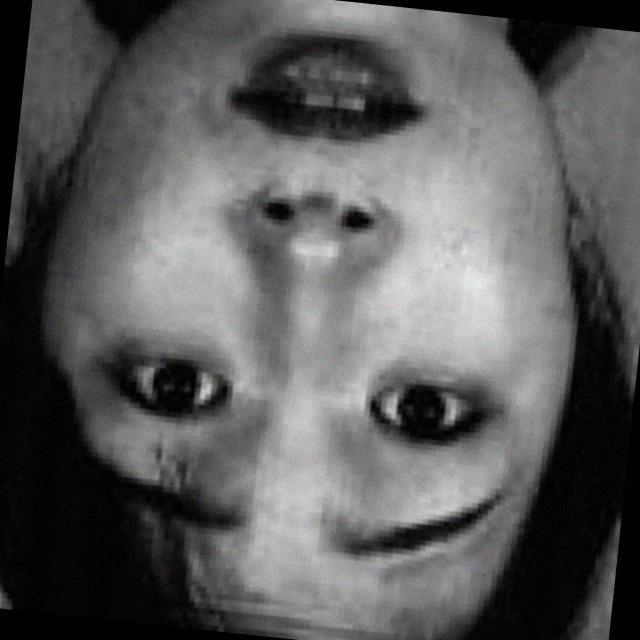fear: (35, 0, 596, 612)
